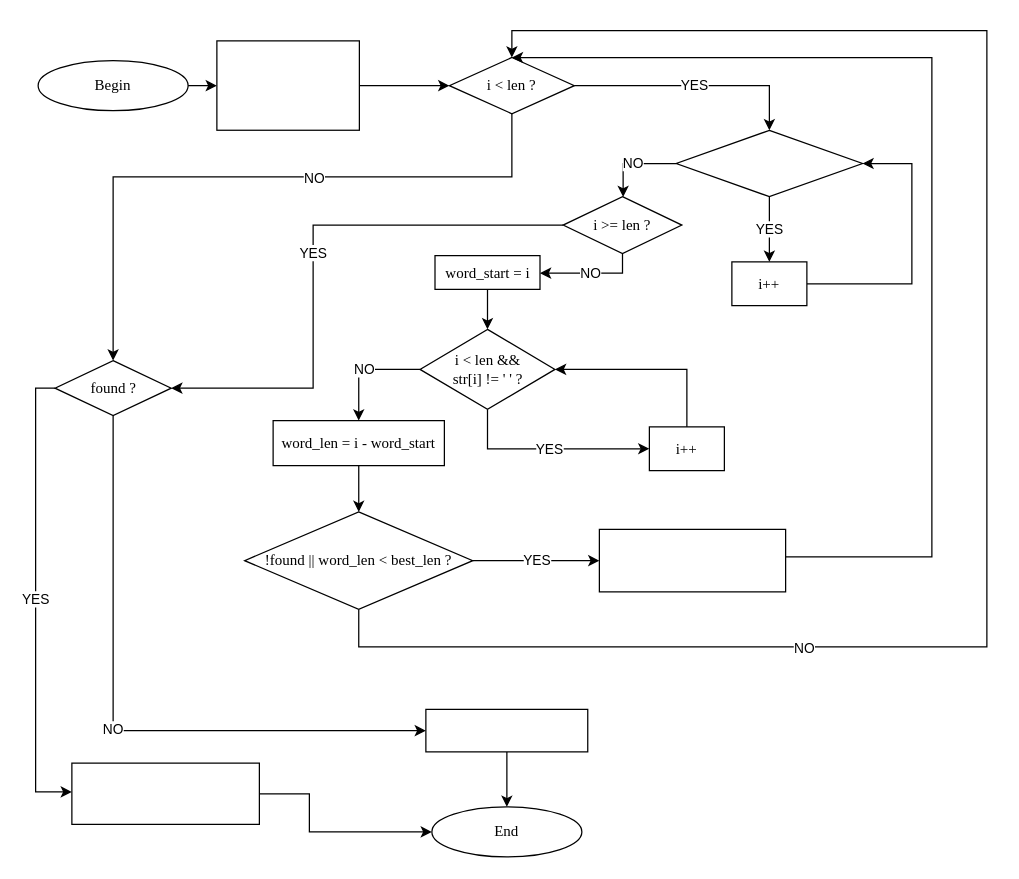
The diagram is 1019 pixels wide and 879 high, and some of its shapes have lost their labels. Each missing label, with the box of its shape:
best_start = 0 best_len = 0 len = str.length() i = 0; found = false: (216, 40, 359, 130)
best_start = word_start best_len = word_len found = true: (598, 528, 786, 592)
i < len && str[i] == ' ' ?: (675, 129, 862, 197)
result = empty string: (425, 708, 588, 752)
result = str.substr(best_start, best_len): (71, 762, 259, 824)
